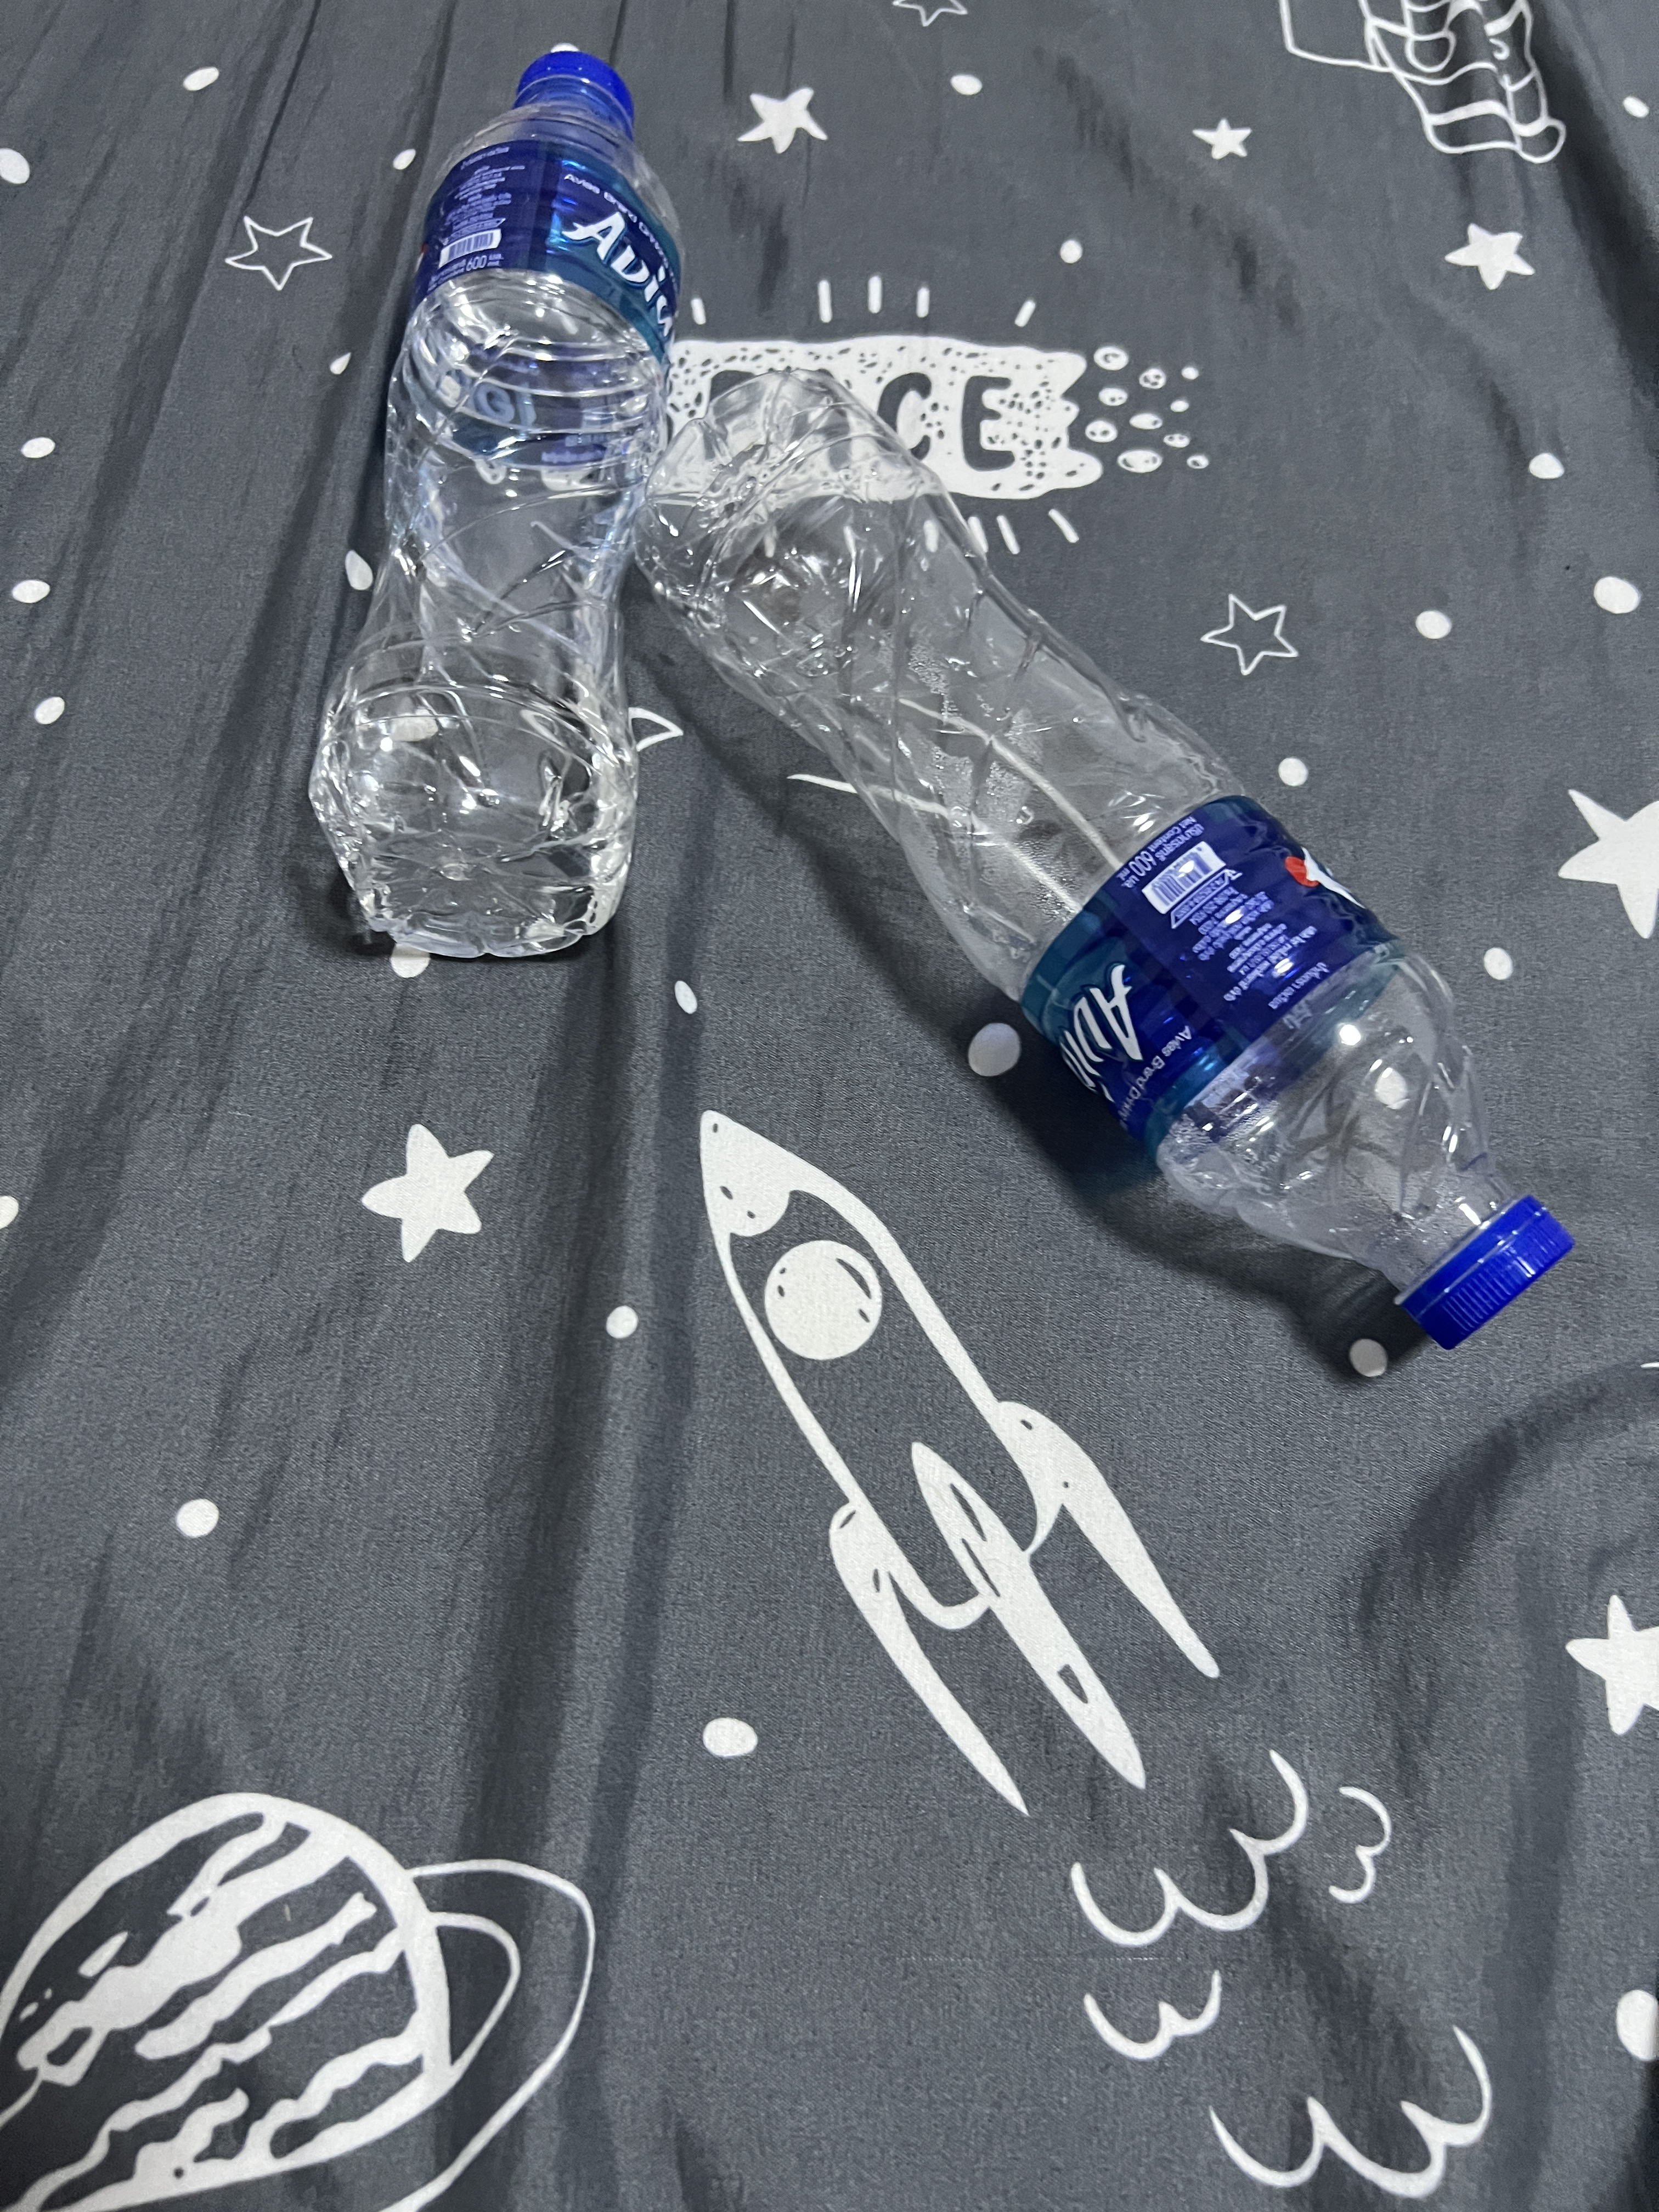plastic_bottle: (619, 347, 1588, 1416), (312, 38, 673, 988)
